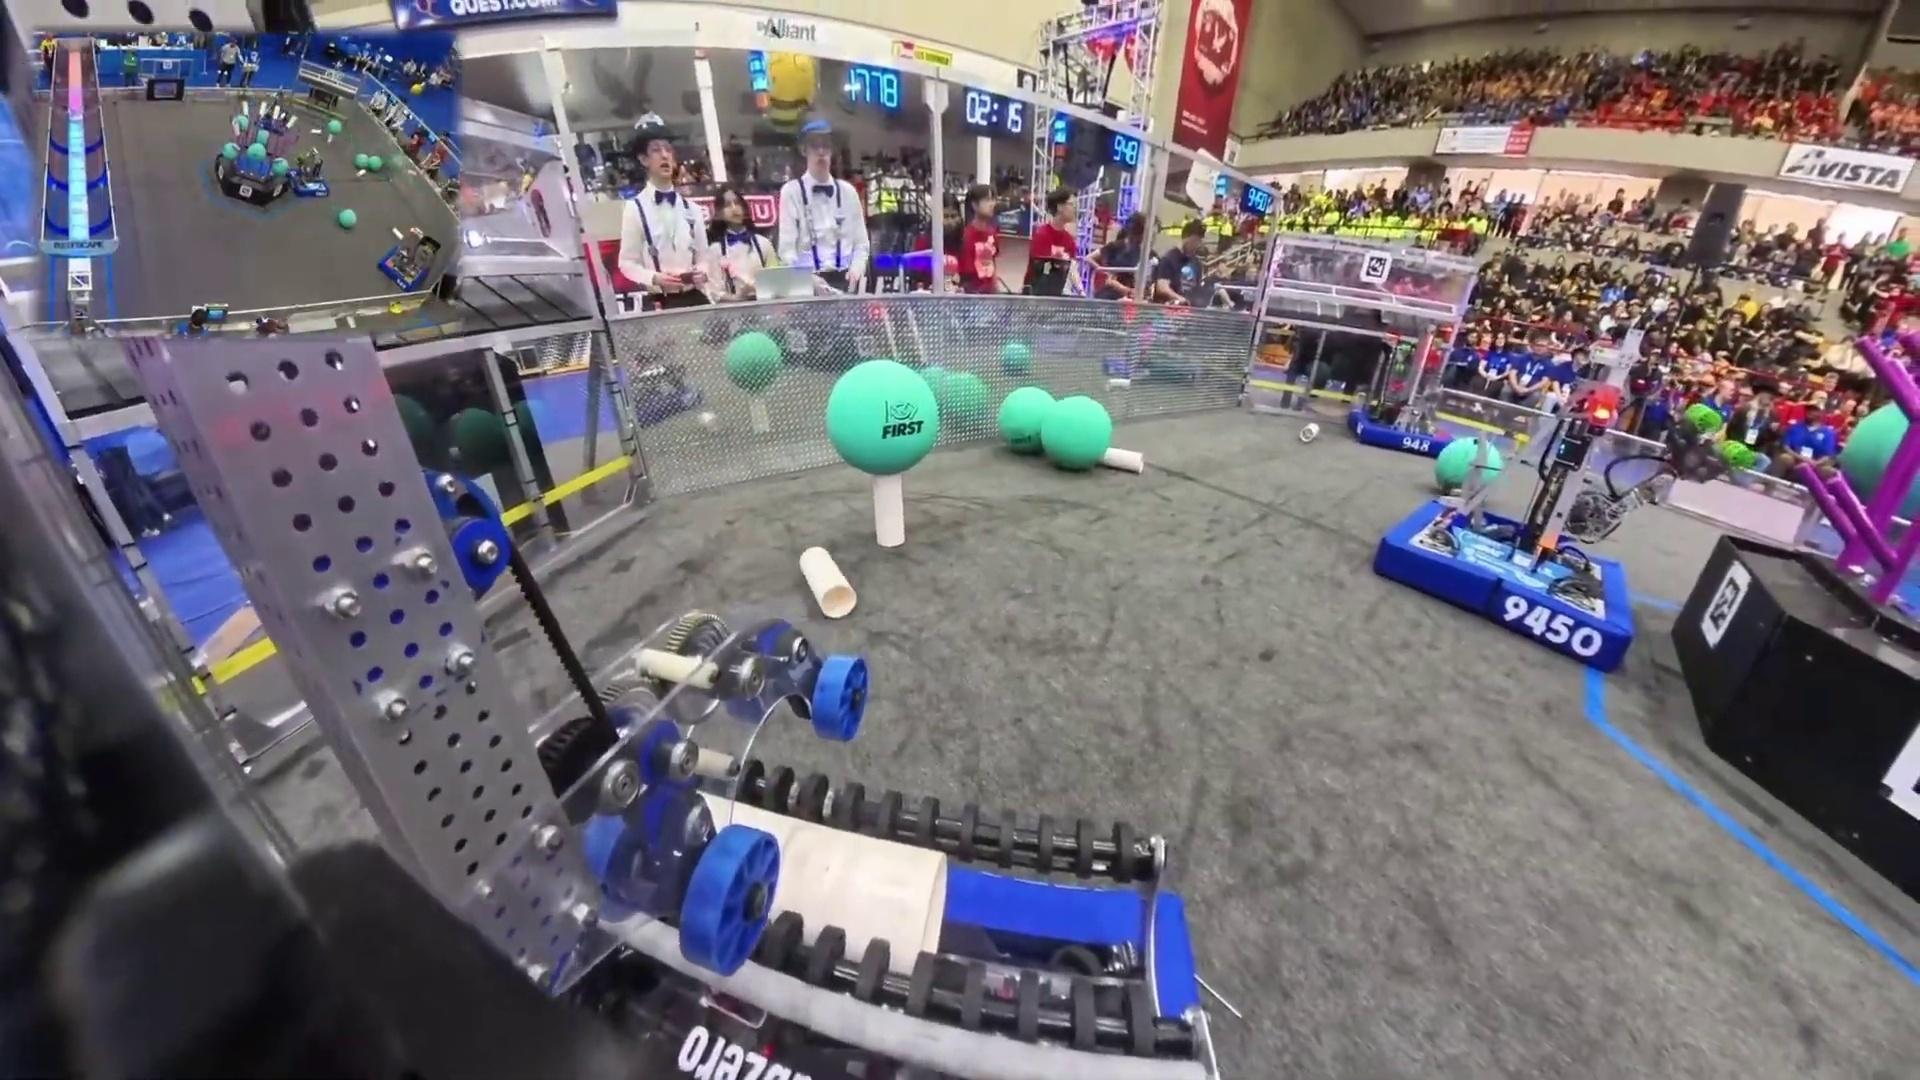robot: (1374, 368, 1633, 674), (1349, 330, 1464, 456), (620, 348, 700, 422), (378, 225, 439, 291), (286, 150, 332, 199)
